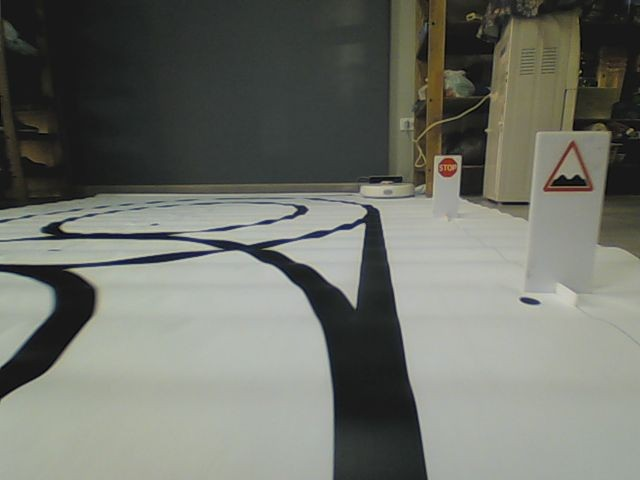Stop: (439, 157, 458, 179)
